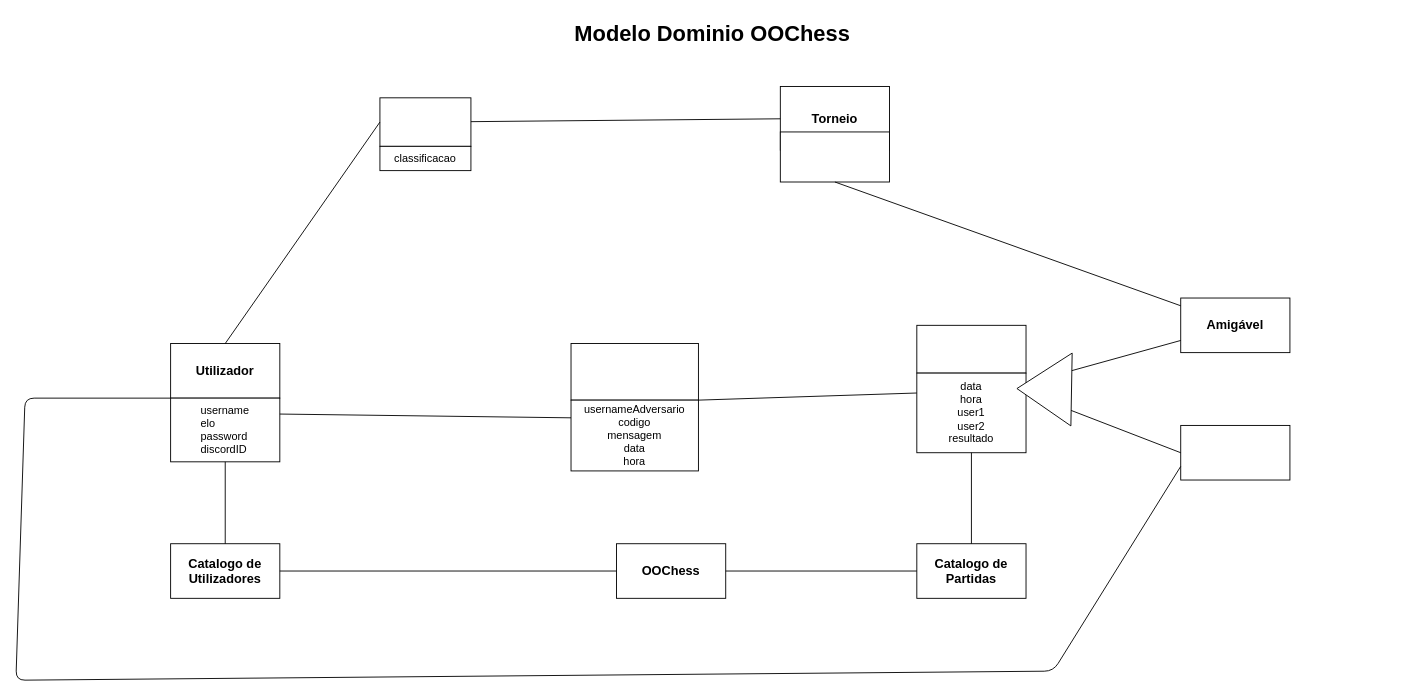
Image size: 1415x697. Some labels were removed from this diagram. Each missing label, with the centre of its shape:
Desafio: (634,371)
Espontânea: (1235,452)
Inscrição: (425,121)
Partida: (971,348)
torneioNome dataInicio dataFim: (834,156)
